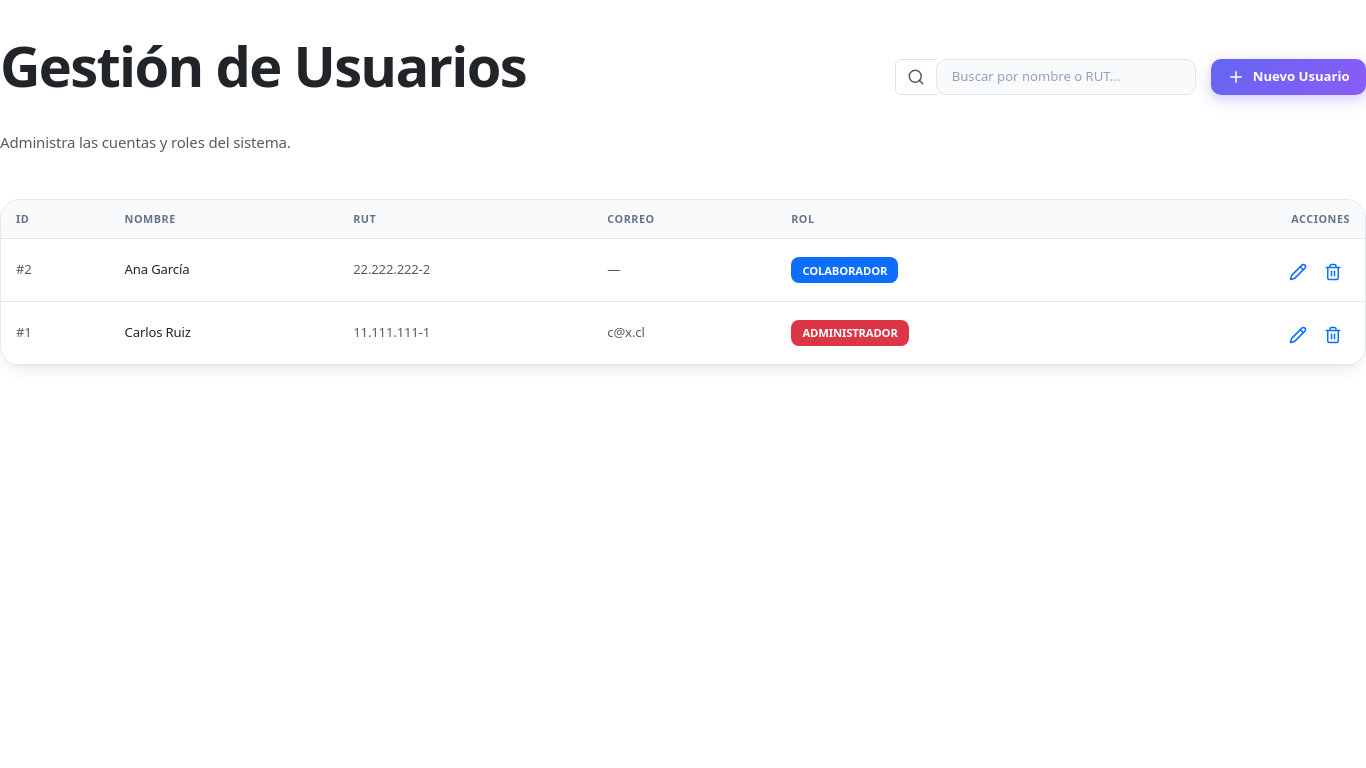
Test: UsersManagement › crea un usuario válido: POST a register y guarda habilidades
Expected: the text "Ana García" is shown, [110, 239, 338, 302]
Click the button "Nuevo Usuario". click: (1288,77)
box: [1211, 59, 1365, 95]
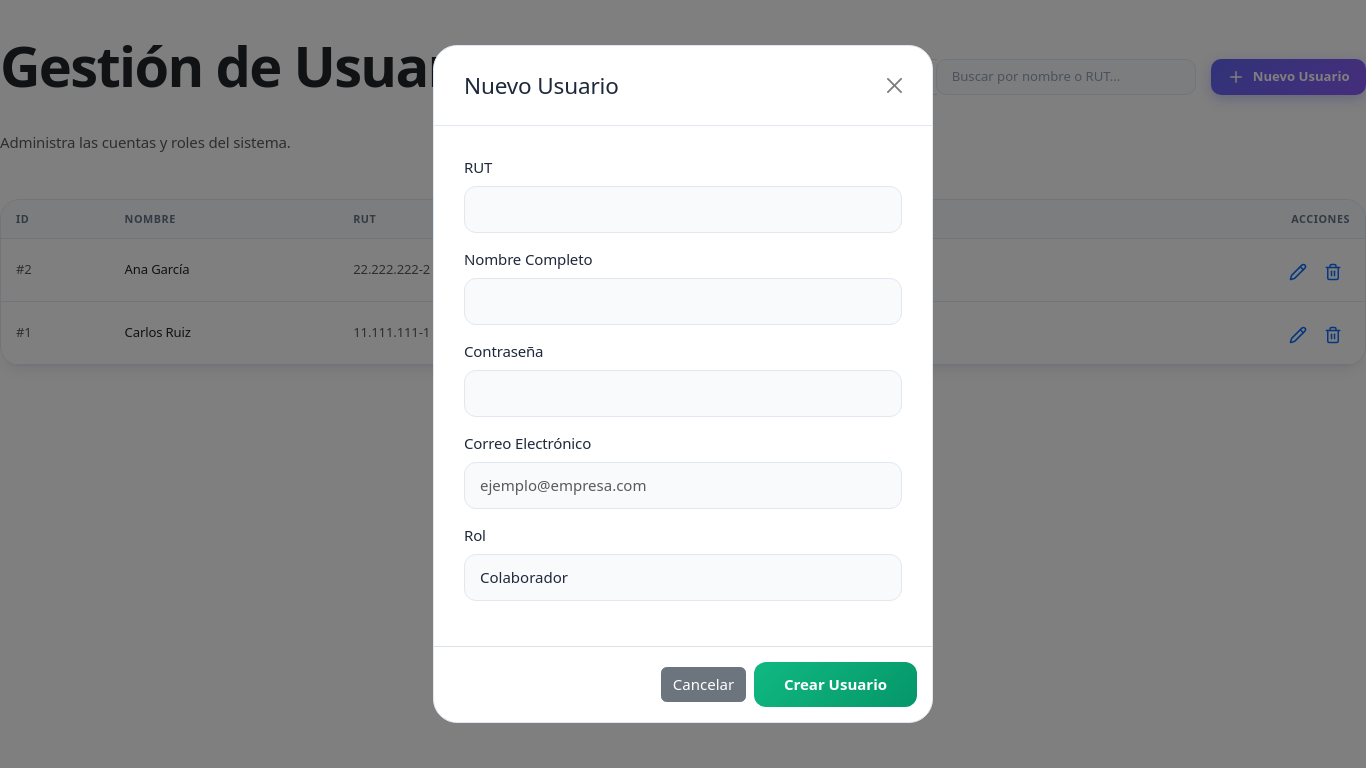
Type "111111111" into the 1st field. click: (683,209)
box: [464, 186, 902, 233]
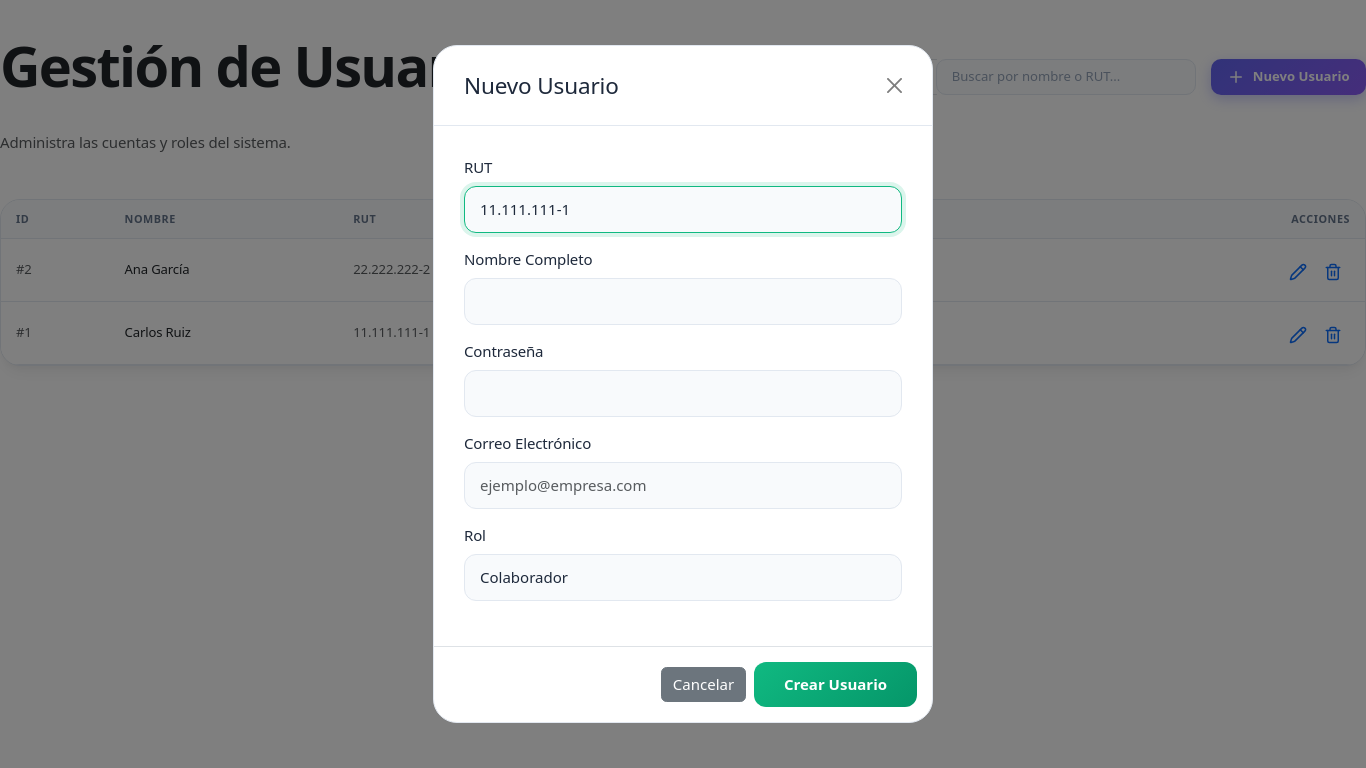
Type "Pedro Soto" into the field below "Nombre Completo". click: (683,301)
box: [464, 278, 902, 325]
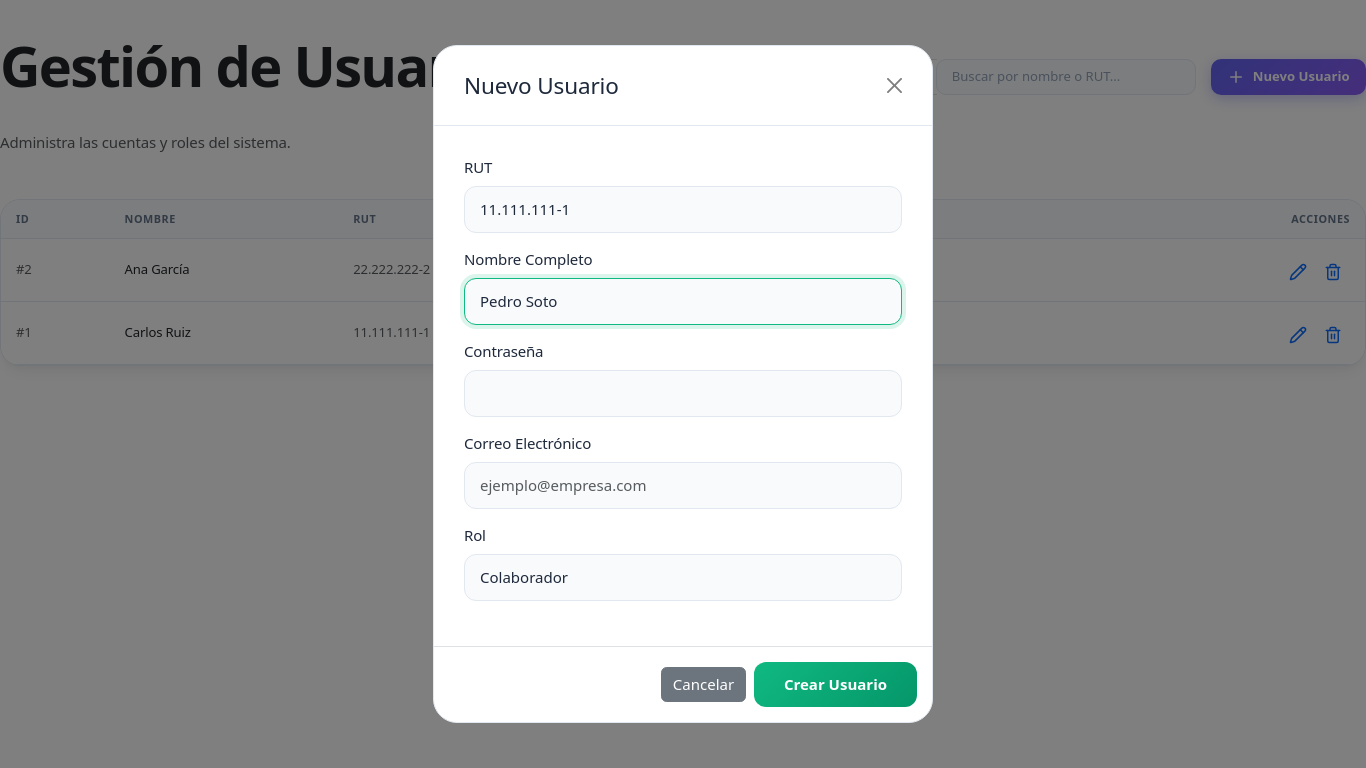
Type "secreta" into the password field. click: (683,393)
box: [464, 370, 902, 417]
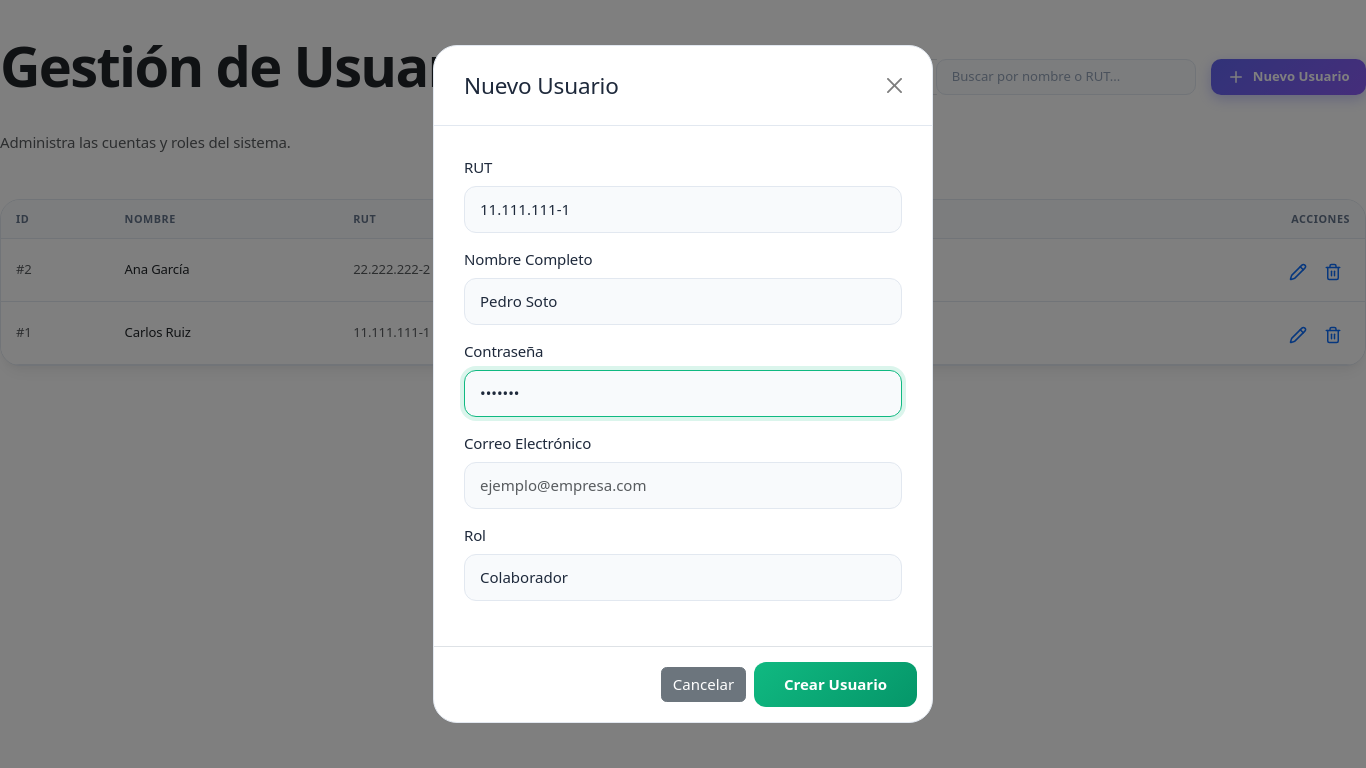
Click the button "Crear Usuario". click: (835,684)
box: [754, 662, 917, 707]
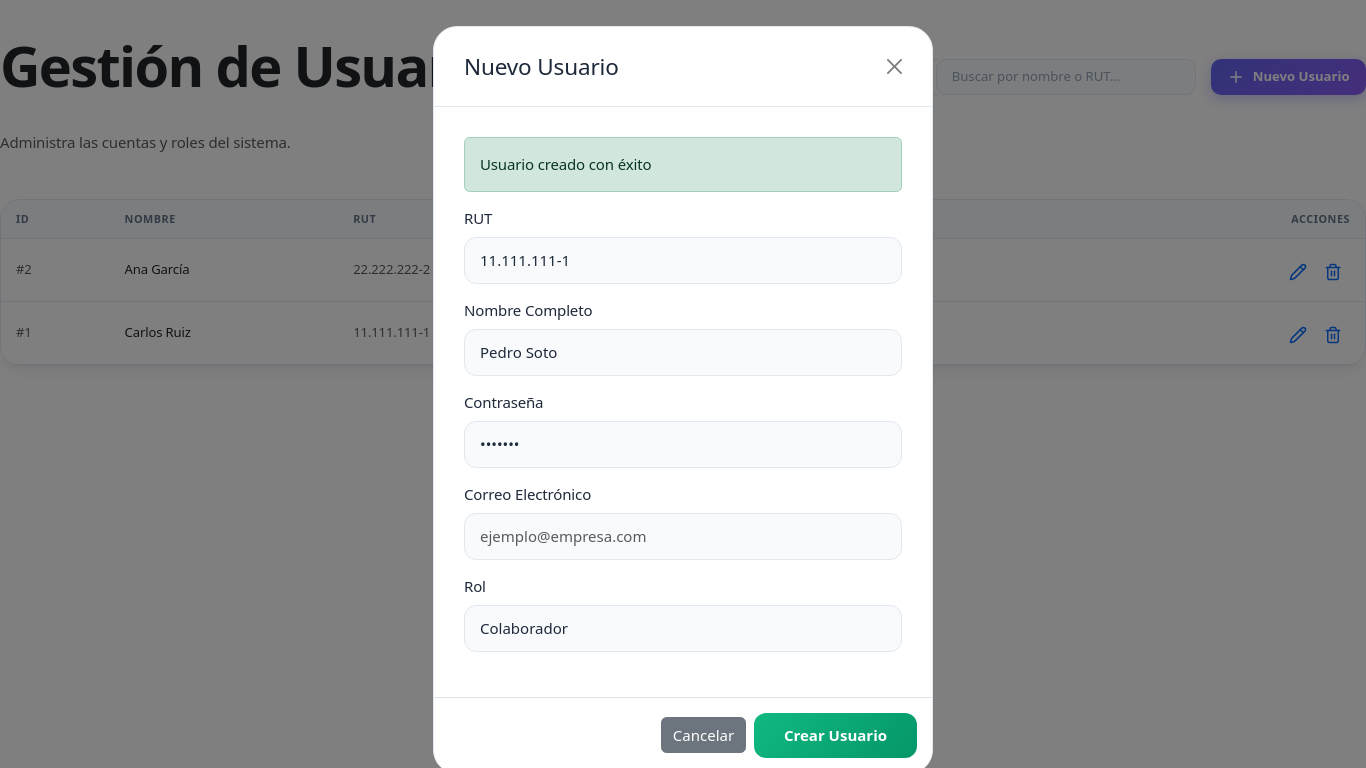
Result: the text "Usuario creado con éxito" is shown at [464, 137, 902, 192]
